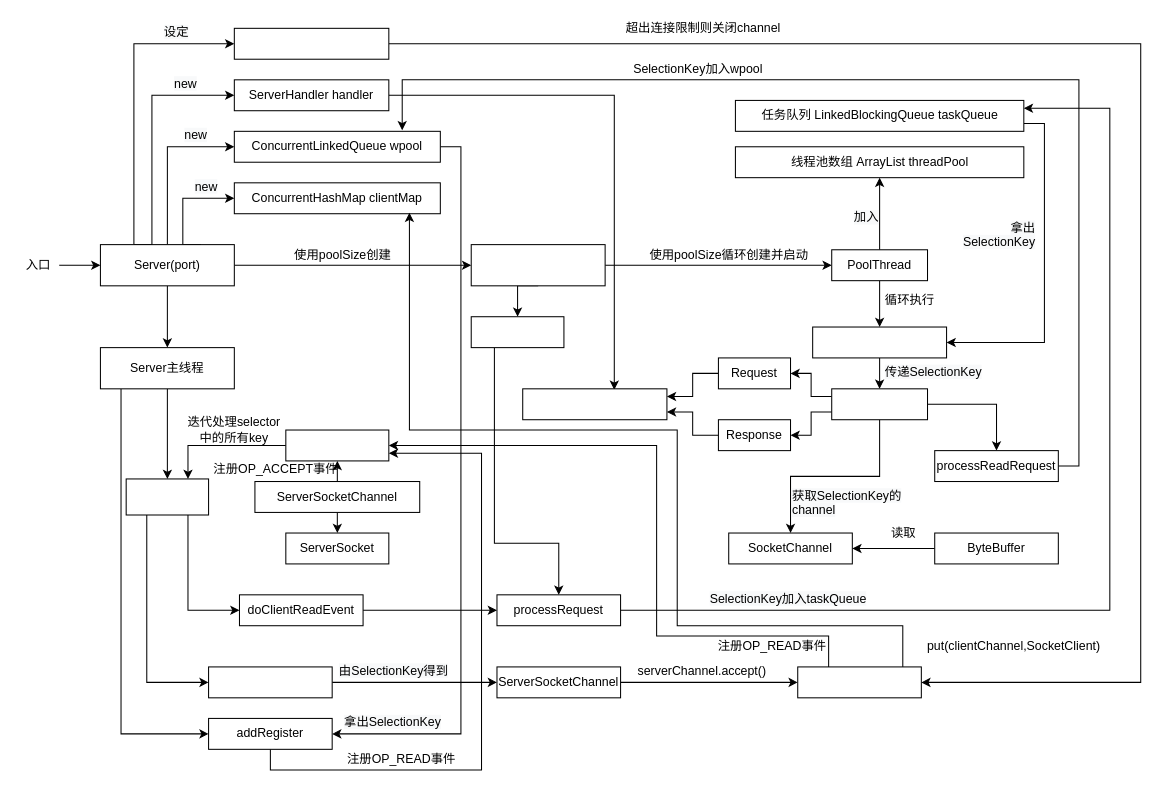
Some shapes in this 1167 by 796 pixel diagram are drawn without their labels. The centre of each missing label's shape, as x and y in pixels:
clientChannel: the point at 859,682
dispatch: the point at 167,496
doClientAcceptEvent: the point at 270,682
handler.OnDataArrival(): the point at 594,404
maxConnections: the point at 311,43
PoolThread线程主方法: the point at 879,342
process方法: the point at 879,404
Selector: the point at 337,445
workQueue: the point at 517,332
WorkQueue(poolSize): the point at 537,265
